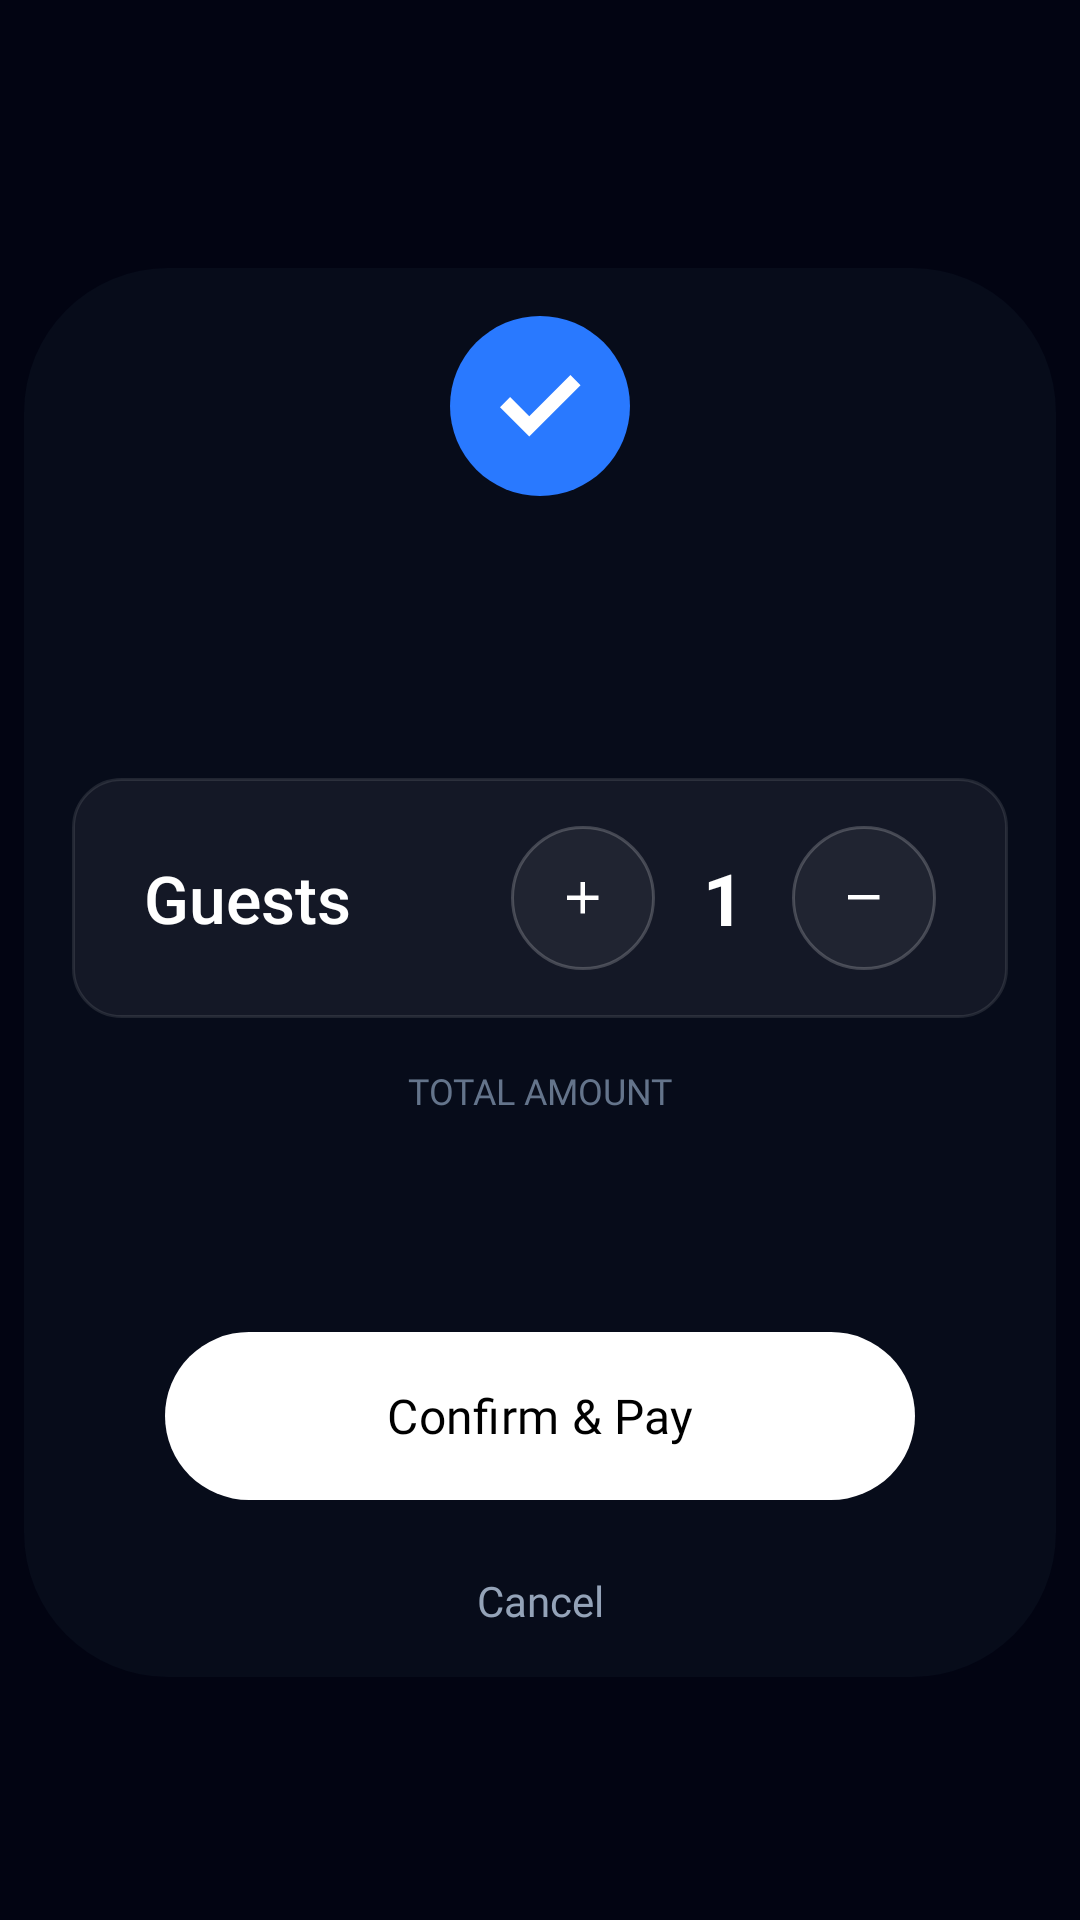

Point at icon controls on the screen. Image size 1080 x 1920, points as [x,y].
minus: [864,898]
plus: [583,898]
resource true: [540,406]
